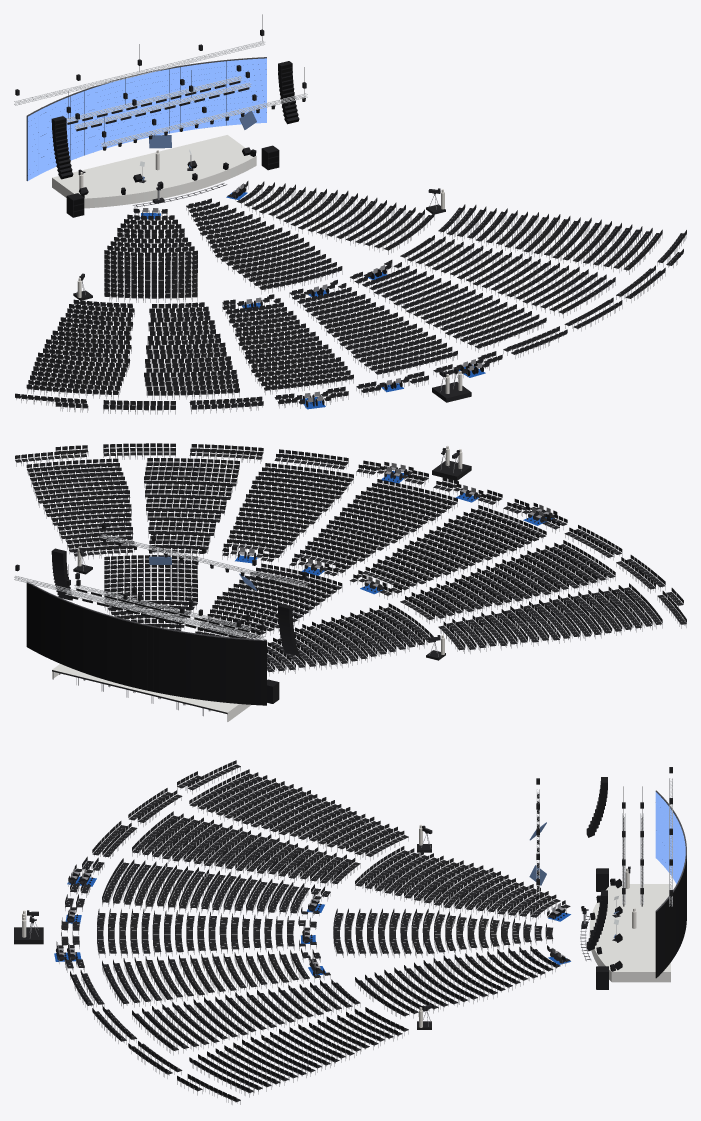
The model's file is panoramic-keynote.glb.
3 views of the same model, one above another, from view 1: azimuth 30°, elevation 25°; view 2: azimuth 150°, elevation 25°; view 3: azimuth 270°, elevation 25° (orthographic). The views are drawn at different scales.
Parts seen in each view (by area): view 1: APRON.CURVED; view 2: BC.PLATFORM.FOH; view 3: APRON.CURVED, FASCIA.MAIN.RIGHT.1.
Part boxes in pixels (box(x1,y1,x2,y2)): APRON.CURVED: box(84, 156, 256, 208); BC.PLATFORM.FOH: box(432, 461, 471, 480); APRON.CURVED: box(589, 885, 611, 981); FASCIA.MAIN.RIGHT.1: box(611, 972, 670, 982).
Bounding box in the file's own units: 65.4 × 11.34 × 55.1.
